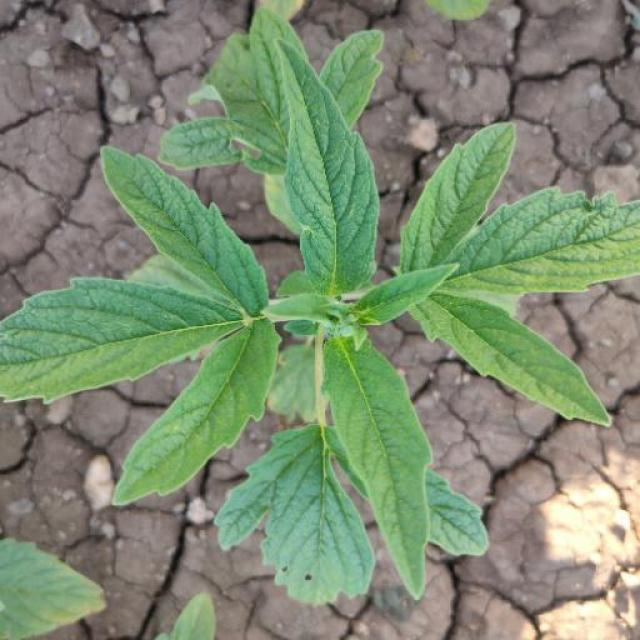crop: (29, 90, 635, 566)
